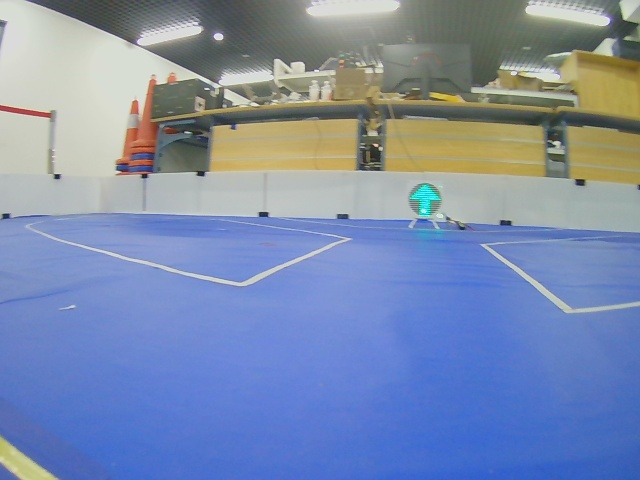straight_green: (409, 183, 442, 217)
